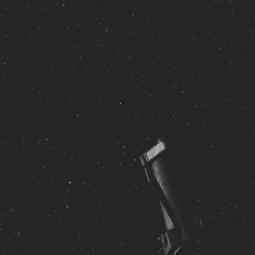xmm_newton: (119, 124, 219, 255)
